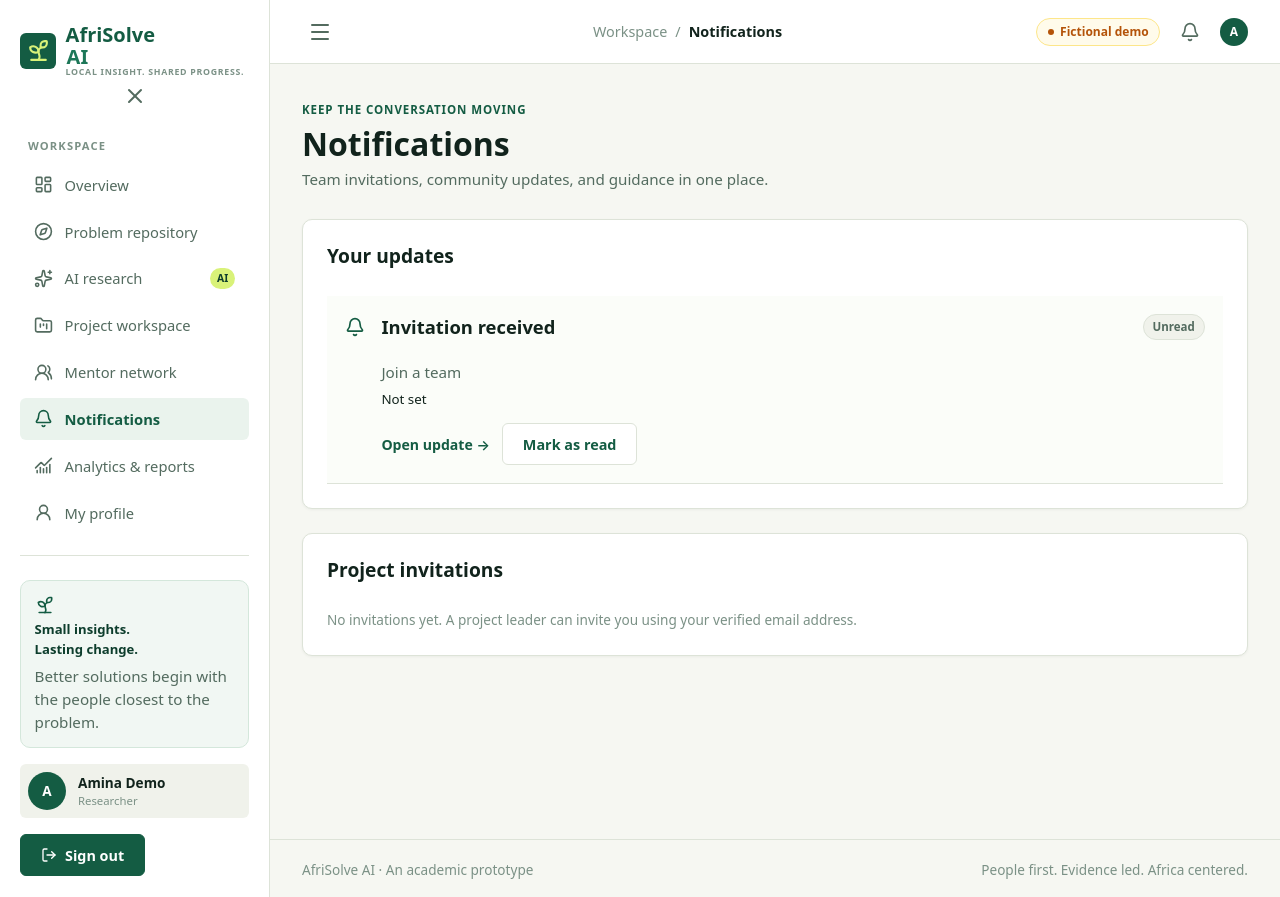
Scenario: notifications mark a server record read and profile edits persist
The width and height of the screenshot is (1280, 897).
Click the button "Mark as read": (570, 444) [502,423,637,465]
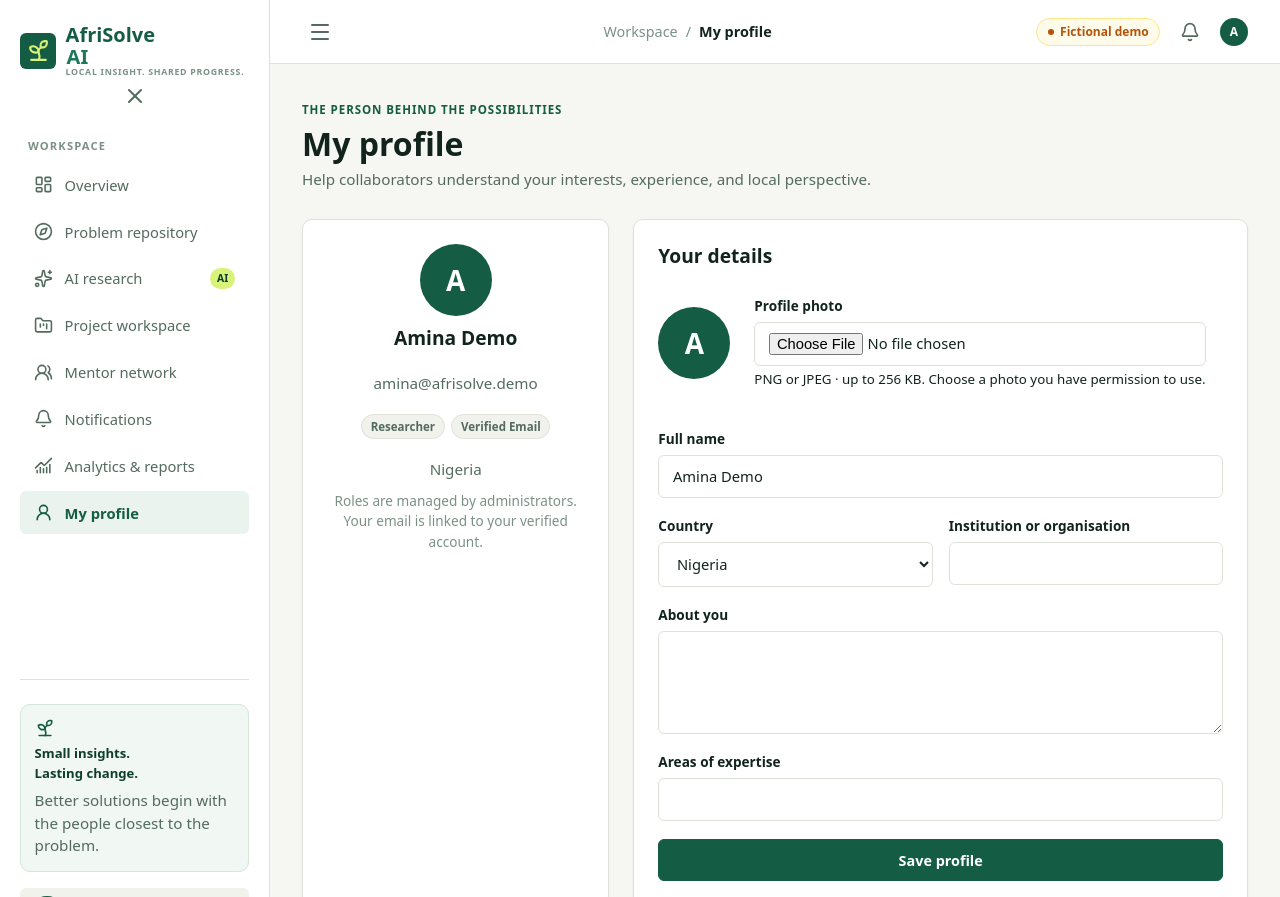
Now the field labelled "Full name" is shown
Replace the text in the field labelled "Full name" with "Amina Updated": (941, 476) [658,455,1223,498]
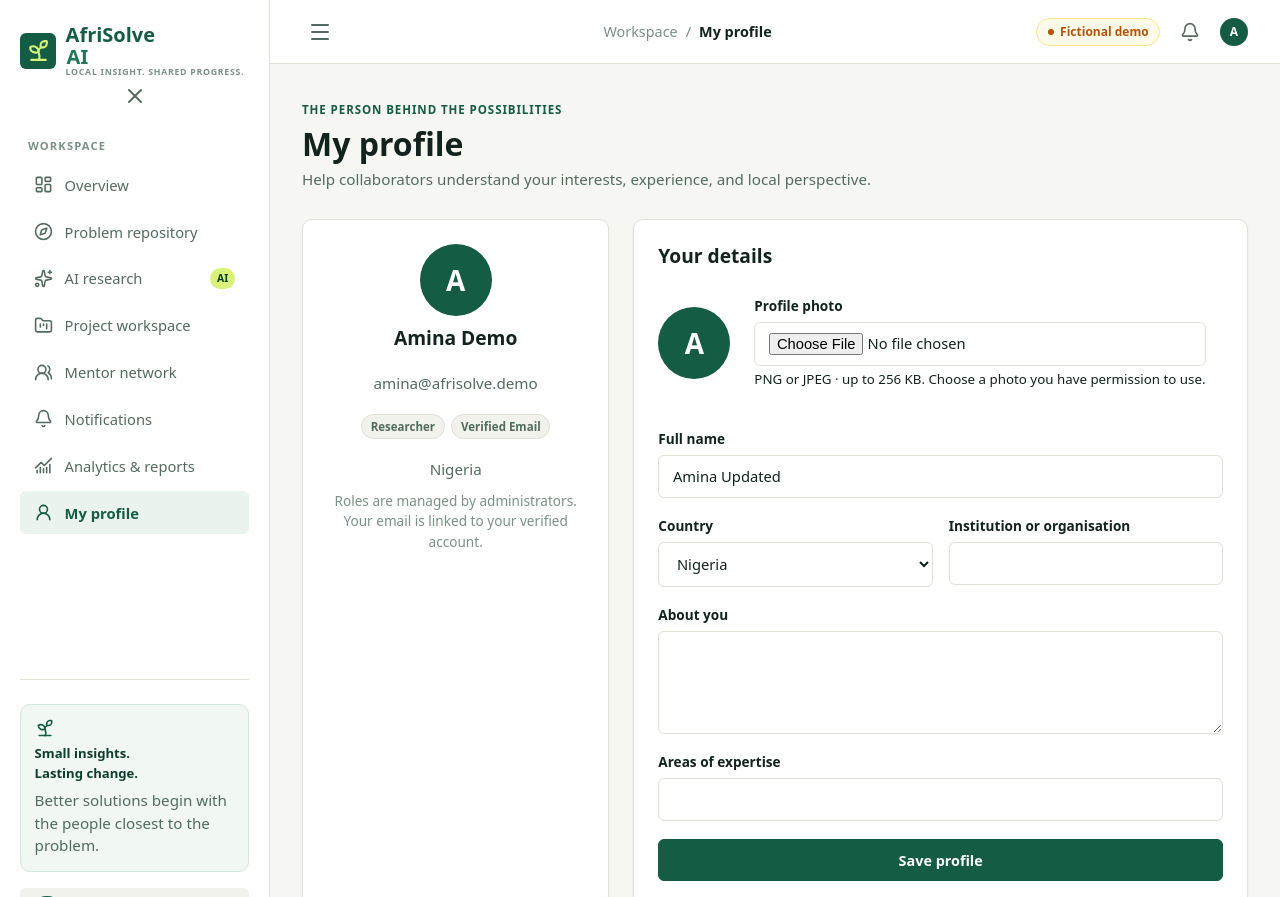
Click the button "Save profile": (941, 860) [658,839,1223,881]
(page scrolled)
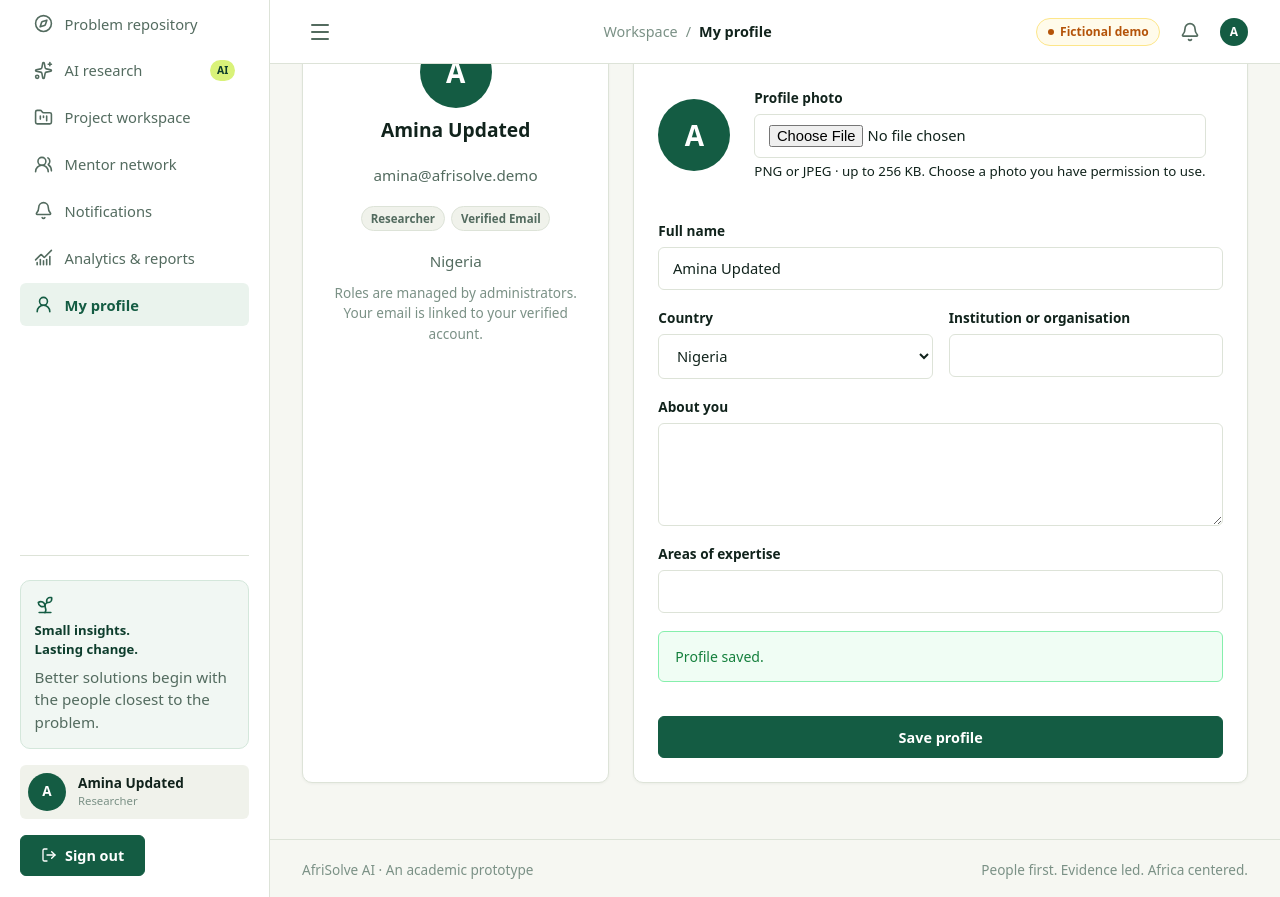
Now the text "Profile saved." is shown, box [658,631,1223,682]
Now the text "Amina Updated" is shown, box [78,773,184,793]
